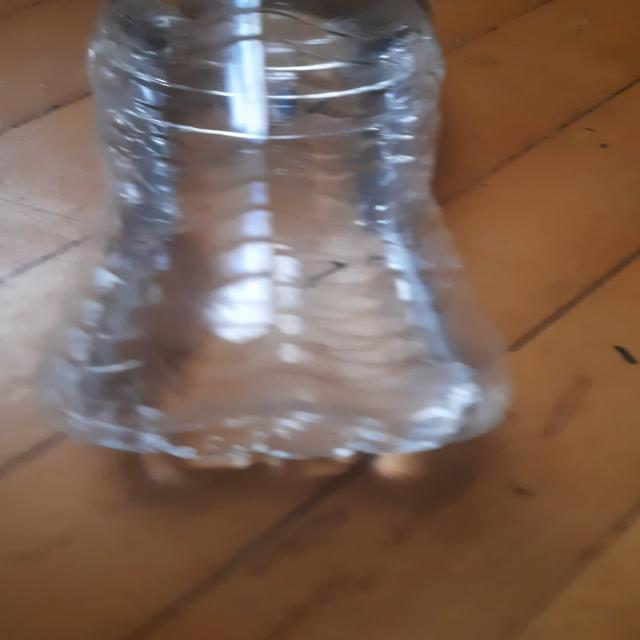Plastic: (32, 0, 514, 479)
